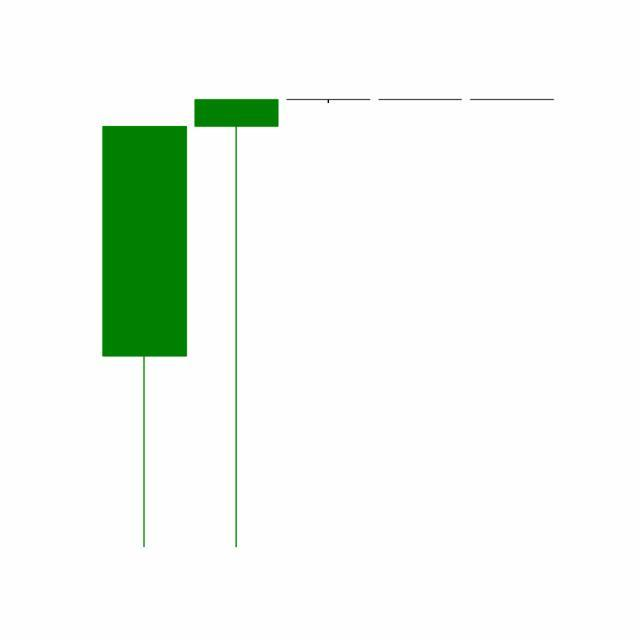Hammer: (466, 99, 558, 101)
